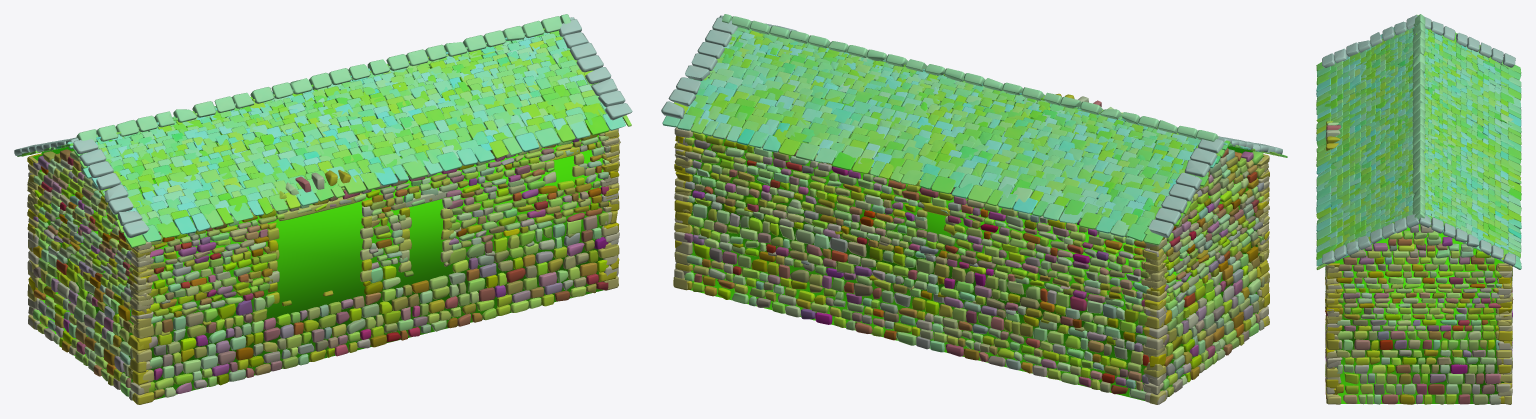
Rendered from SM_Barn_14.glb.
3 views of the same model, side by side, from view 1: azimuth 30°, elevation 25°; view 2: azimuth 150°, elevation 25°; view 3: azimuth 270°, elevation 25° (orthographic). The views are drawn at different scales.
Visible parts, largest first — view 1: SM_Barn_14; view 2: SM_Barn_14; view 3: SM_Barn_14.
Boxes of the visible parts, x1,y1,x2,y2 form: SM_Barn_14: (14,14,632,404); SM_Barn_14: (661,14,1287,404); SM_Barn_14: (1316,14,1521,404).
Size of the model in its own units: 15.78 by 6.89 by 6.61.
